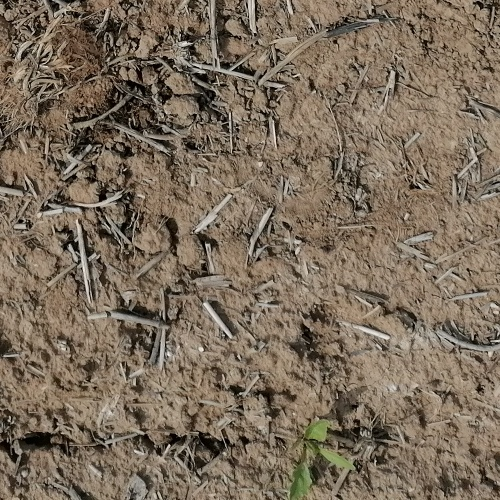beet: (287, 418, 356, 500)
